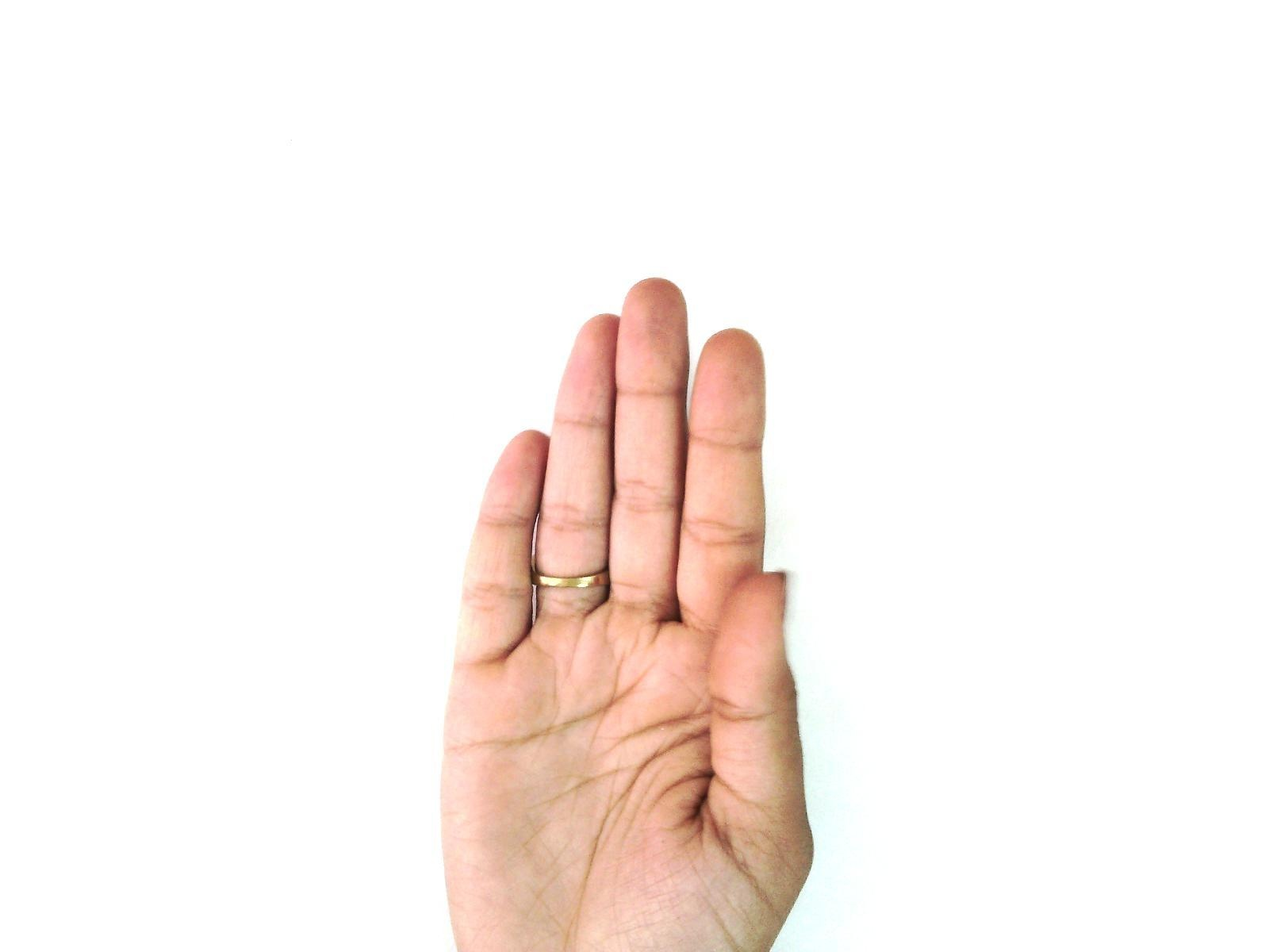open_palm: (436, 277, 819, 951)
